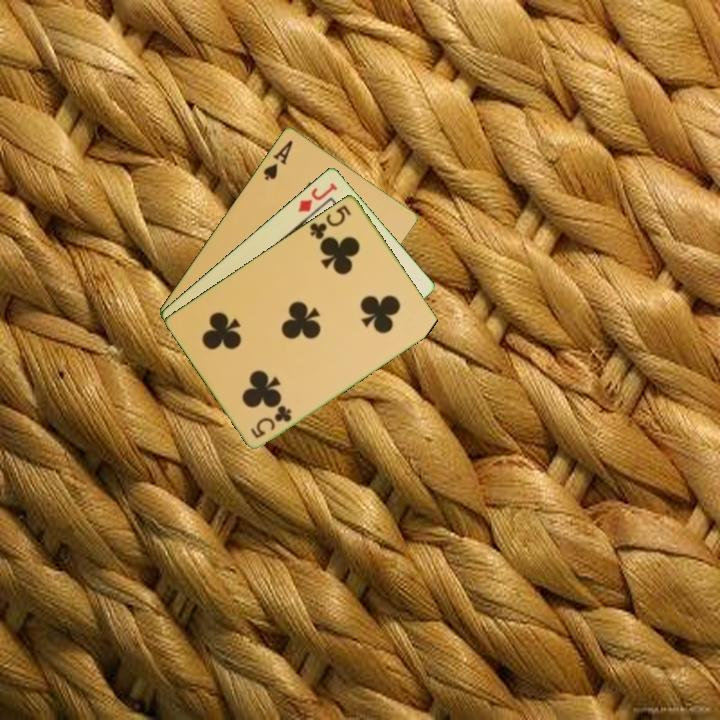5c: (306, 201, 354, 244), (247, 401, 295, 441)
As: (259, 136, 296, 183)
Jd: (294, 178, 340, 215)
